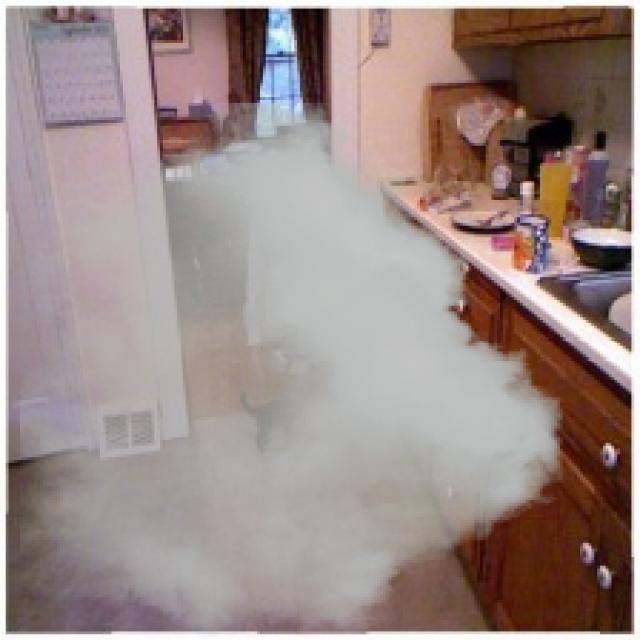Smoke: (20, 102, 563, 638)
